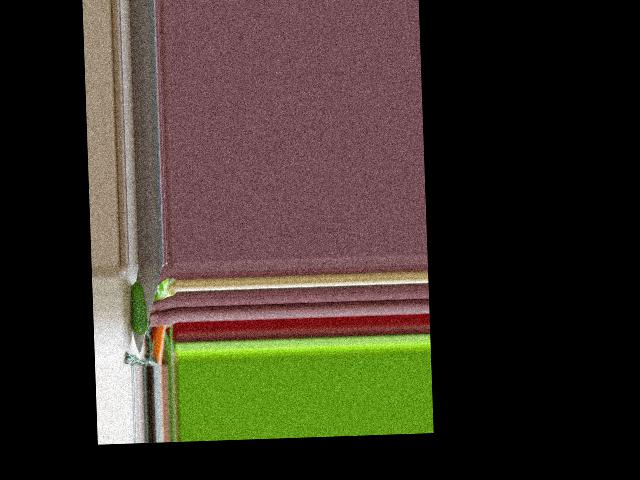cucumber: (129, 282, 147, 335)
